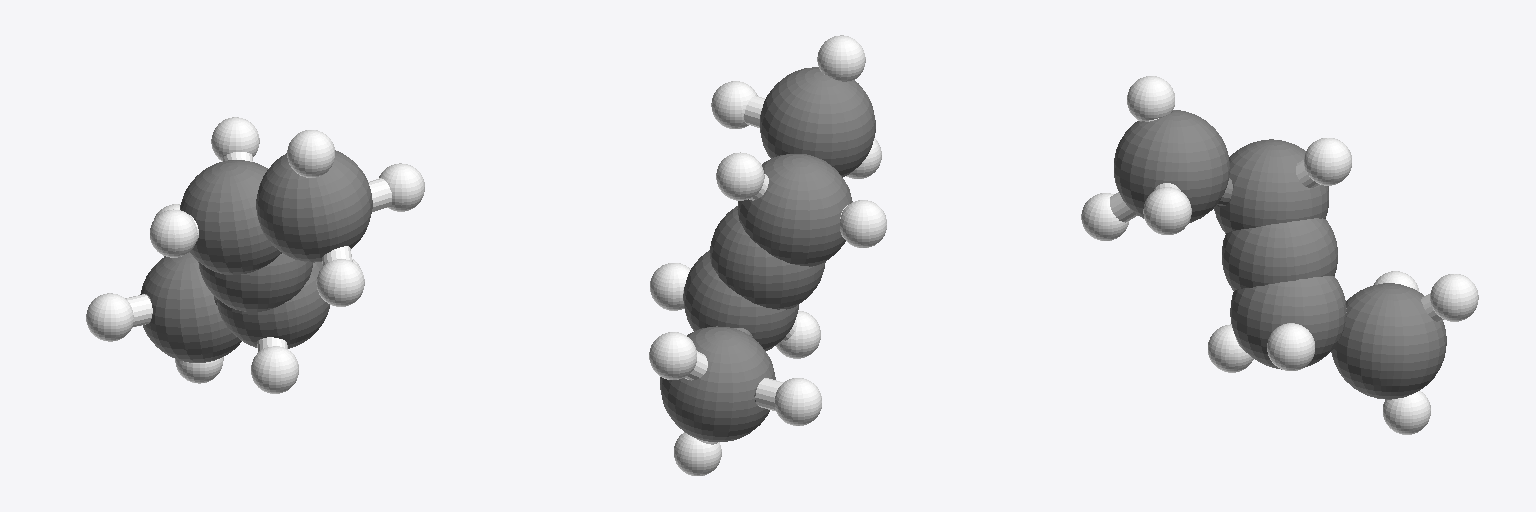
The model's file is butane3D.obj.
3 renders of one model, left to right at view 1: azimuth 30°, elevation 25°; view 2: azimuth 150°, elevation 25°; view 3: azimuth 270°, elevation 25°, orthographic.
Visible parts, largest first — view 1: Carbon_ball_SurfSphere.006, Hydrogen_ball_SurfSphere.007, Carbon_ball.001_SurfSphere, Hydrogen_sticks_cylinder.003; view 2: Carbon_ball_SurfSphere.006, Hydrogen_ball_SurfSphere.007, Carbon_ball.001_SurfSphere, Hydrogen_sticks_cylinder.003; view 3: Carbon_ball_SurfSphere.006, Hydrogen_ball_SurfSphere.007, Carbon_ball.001_SurfSphere, Hydrogen_sticks_cylinder.003.
Boxes of the visible parts, <box> form: Carbon_ball_SurfSphere.006: <box>140,150,372,362</box>; Hydrogen_ball_SurfSphere.007: <box>86,117,424,393</box>; Carbon_ball.001_SurfSphere: <box>198,253,312,311</box>; Hydrogen_sticks_cylinder.003: <box>125,152,391,351</box>; Carbon_ball_SurfSphere.006: <box>660,67,875,441</box>; Hydrogen_ball_SurfSphere.007: <box>649,35,886,475</box>; Carbon_ball.001_SurfSphere: <box>710,206,825,309</box>; Hydrogen_sticks_cylinder.003: <box>683,96,847,444</box>; Carbon_ball_SurfSphere.006: <box>1114,110,1446,399</box>; Hydrogen_ball_SurfSphere.007: <box>1081,76,1478,434</box>; Carbon_ball.001_SurfSphere: <box>1222,218,1337,290</box>; Hydrogen_sticks_cylinder.003: <box>1110,118,1443,352</box>.
Bounding box in the file's own units: 3.35 × 5.06 × 5.25.